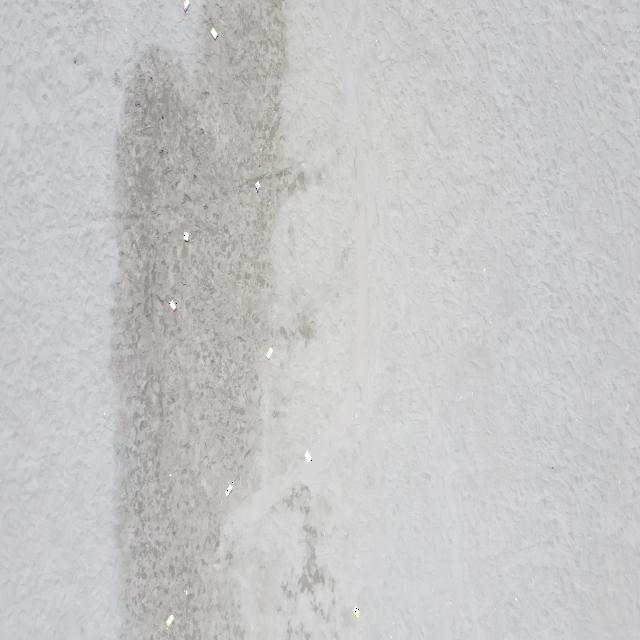Garbage: (164, 613, 172, 627), (224, 482, 232, 495), (303, 449, 311, 462), (168, 300, 176, 311), (209, 27, 216, 39), (267, 347, 272, 359), (183, 0, 188, 12), (255, 180, 260, 191), (353, 607, 359, 616), (183, 231, 188, 240), (184, 588, 187, 595), (168, 472, 171, 476)
